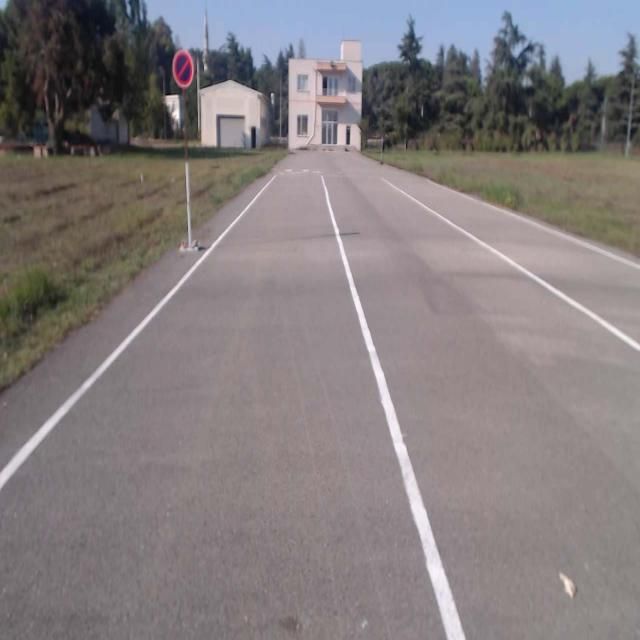parkyasak: (172, 51, 194, 88)
